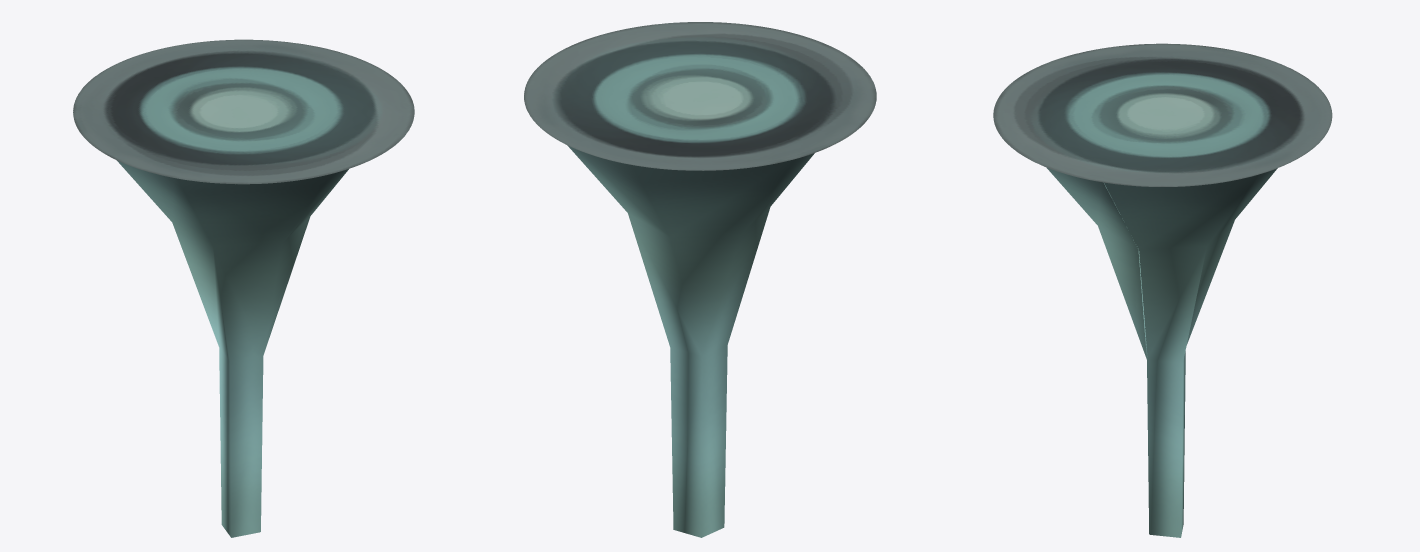
The model's file is tubule.fbx.
The picture shows the model from 3 angles, left to right: view 1: azimuth 30°, elevation 25°; view 2: azimuth 150°, elevation 25°; view 3: azimuth 270°, elevation 25°; orthographic projection. The views are drawn at different scales.
Visible parts, largest first — view 1: sav_tubule_01_LOD0; view 2: sav_tubule_01_LOD0; view 3: sav_tubule_01_LOD0.
Boxes of the visible parts, left/top/right/bottom form: sav_tubule_01_LOD0: left=73, top=39, right=414, bottom=537; sav_tubule_01_LOD0: left=524, top=22, right=876, bottom=537; sav_tubule_01_LOD0: left=993, top=43, right=1332, bottom=537.
Bounding box in the file's own units: 36.92 × 35.05 × 36.89.
